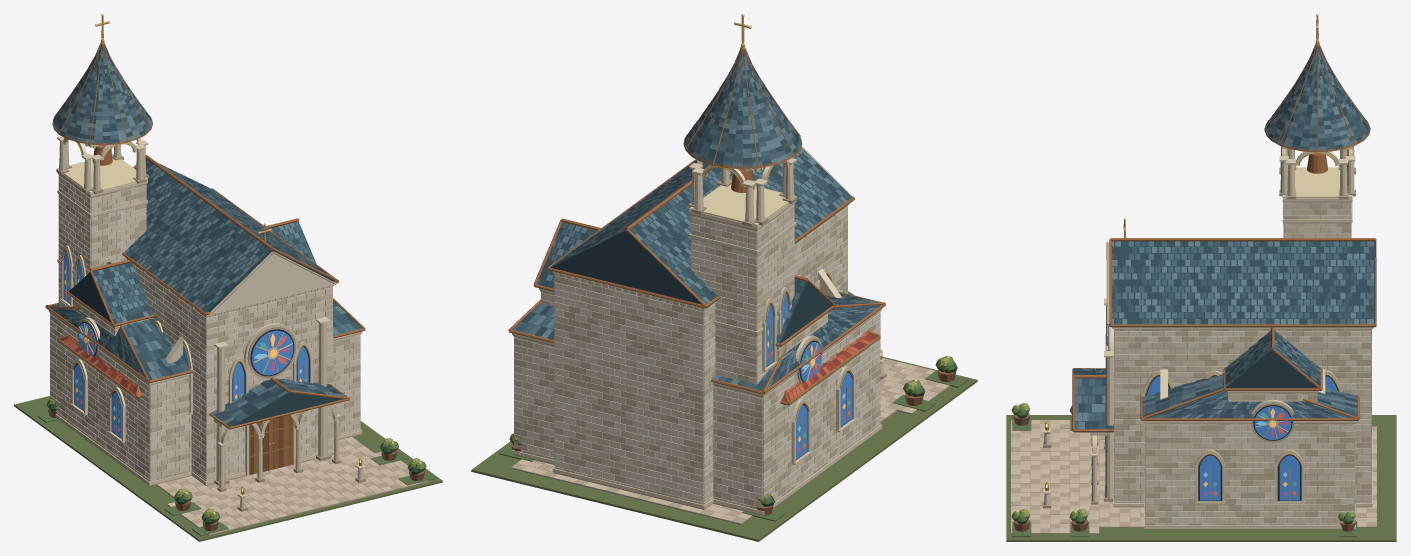
The model's file is church-nivel-6.glb.
3 views of the same model, side by side, from view 1: azimuth 30°, elevation 25°; view 2: azimuth 150°, elevation 25°; view 3: azimuth 270°, elevation 25° (orthographic). The views are drawn at different scales.
Visible parts, largest first — view 1: Igreja 06 #344d58, Igreja 06 #e8dcc5, Igreja 06 #e6d7ba, Igreja 06 #eae1ce, Igreja 06 #cec1a8, Igreja 06 #ded1b9, Igreja 06 #637f89, Igreja 06 #3f5a65, Igreja 06 #a76e42, Igreja 06 #486574, Igreja 06 #6c7d4e, Igreja 06 #55717e (+14 smaller); view 2: Igreja 06 #cec1a8, Igreja 06 #eae1ce, Igreja 06 #ded1b9, Igreja 06 #e8dcc5, Igreja 06 #344d58, Igreja 06 #6c7d4e, Igreja 06 #e6d7ba, Igreja 06 #a76e42, Igreja 06 #3f5a65, Igreja 06 #637f89, Igreja 06 #55717e, Igreja 06 #486574 (+9 smaller); view 3: Igreja 06 #344d58, Igreja 06 #e8dcc5, Igreja 06 #ded1b9, Igreja 06 #eae1ce, Igreja 06 #cec1a8, Igreja 06 #e6d7ba, Igreja 06 #637f89, Igreja 06 #6c7d4e, Igreja 06 #3f5a65, Igreja 06 #55717e, Igreja 06 #486574, Igreja 06 #a76e42 (+12 smaller).
Boxes of the visible parts, box(x1,y1,x2,y2) form: Igreja 06 #344d58: box(50, 45, 355, 426); Igreja 06 #e8dcc5: box(50, 176, 360, 481); Igreja 06 #e6d7ba: box(48, 136, 365, 508); Igreja 06 #eae1ce: box(50, 178, 360, 479); Igreja 06 #cec1a8: box(50, 184, 360, 479); Igreja 06 #ded1b9: box(50, 135, 360, 481); Igreja 06 #637f89: box(50, 46, 346, 423); Igreja 06 #3f5a65: box(51, 44, 362, 421); Igreja 06 #a76e42: box(45, 43, 365, 494); Igreja 06 #486574: box(54, 44, 346, 421); Igreja 06 #6c7d4e: box(14, 396, 442, 541); Igreja 06 #55717e: box(55, 44, 355, 416); Igreja 06 #cec1a8: box(514, 205, 880, 509); Igreja 06 #eae1ce: box(514, 204, 880, 507); Igreja 06 #ded1b9: box(514, 157, 880, 507); Igreja 06 #e8dcc5: box(514, 207, 880, 507); Igreja 06 #344d58: box(516, 53, 878, 388); Igreja 06 #6c7d4e: box(471, 356, 977, 541); Igreja 06 #e6d7ba: box(512, 157, 886, 514); Igreja 06 #a76e42: box(508, 48, 885, 405); Igreja 06 #3f5a65: box(515, 49, 881, 390); Igreja 06 #637f89: box(533, 50, 878, 388); Igreja 06 #55717e: box(527, 50, 874, 380); Igreja 06 #486574: box(512, 52, 867, 389); Igreja 06 #344d58: box(1073, 47, 1375, 429); Igreja 06 #e8dcc5: box(1108, 202, 1371, 525); Igreja 06 #ded1b9: box(1112, 146, 1373, 525); Igreja 06 #eae1ce: box(1114, 202, 1371, 525); Igreja 06 #cec1a8: box(1114, 202, 1371, 525); Igreja 06 #e6d7ba: box(1043, 146, 1372, 528); Igreja 06 #637f89: box(1075, 49, 1373, 429); Igreja 06 #6c7d4e: box(1006, 415, 1396, 541); Igreja 06 #3f5a65: box(1074, 46, 1373, 429); Igreja 06 #55717e: box(1074, 46, 1373, 418); Igreja 06 #486574: box(1074, 46, 1373, 429); Igreja 06 #a76e42: box(1045, 45, 1376, 490).
Bounding box in the file's own units: 15.75 × 25.18 × 20.77.
